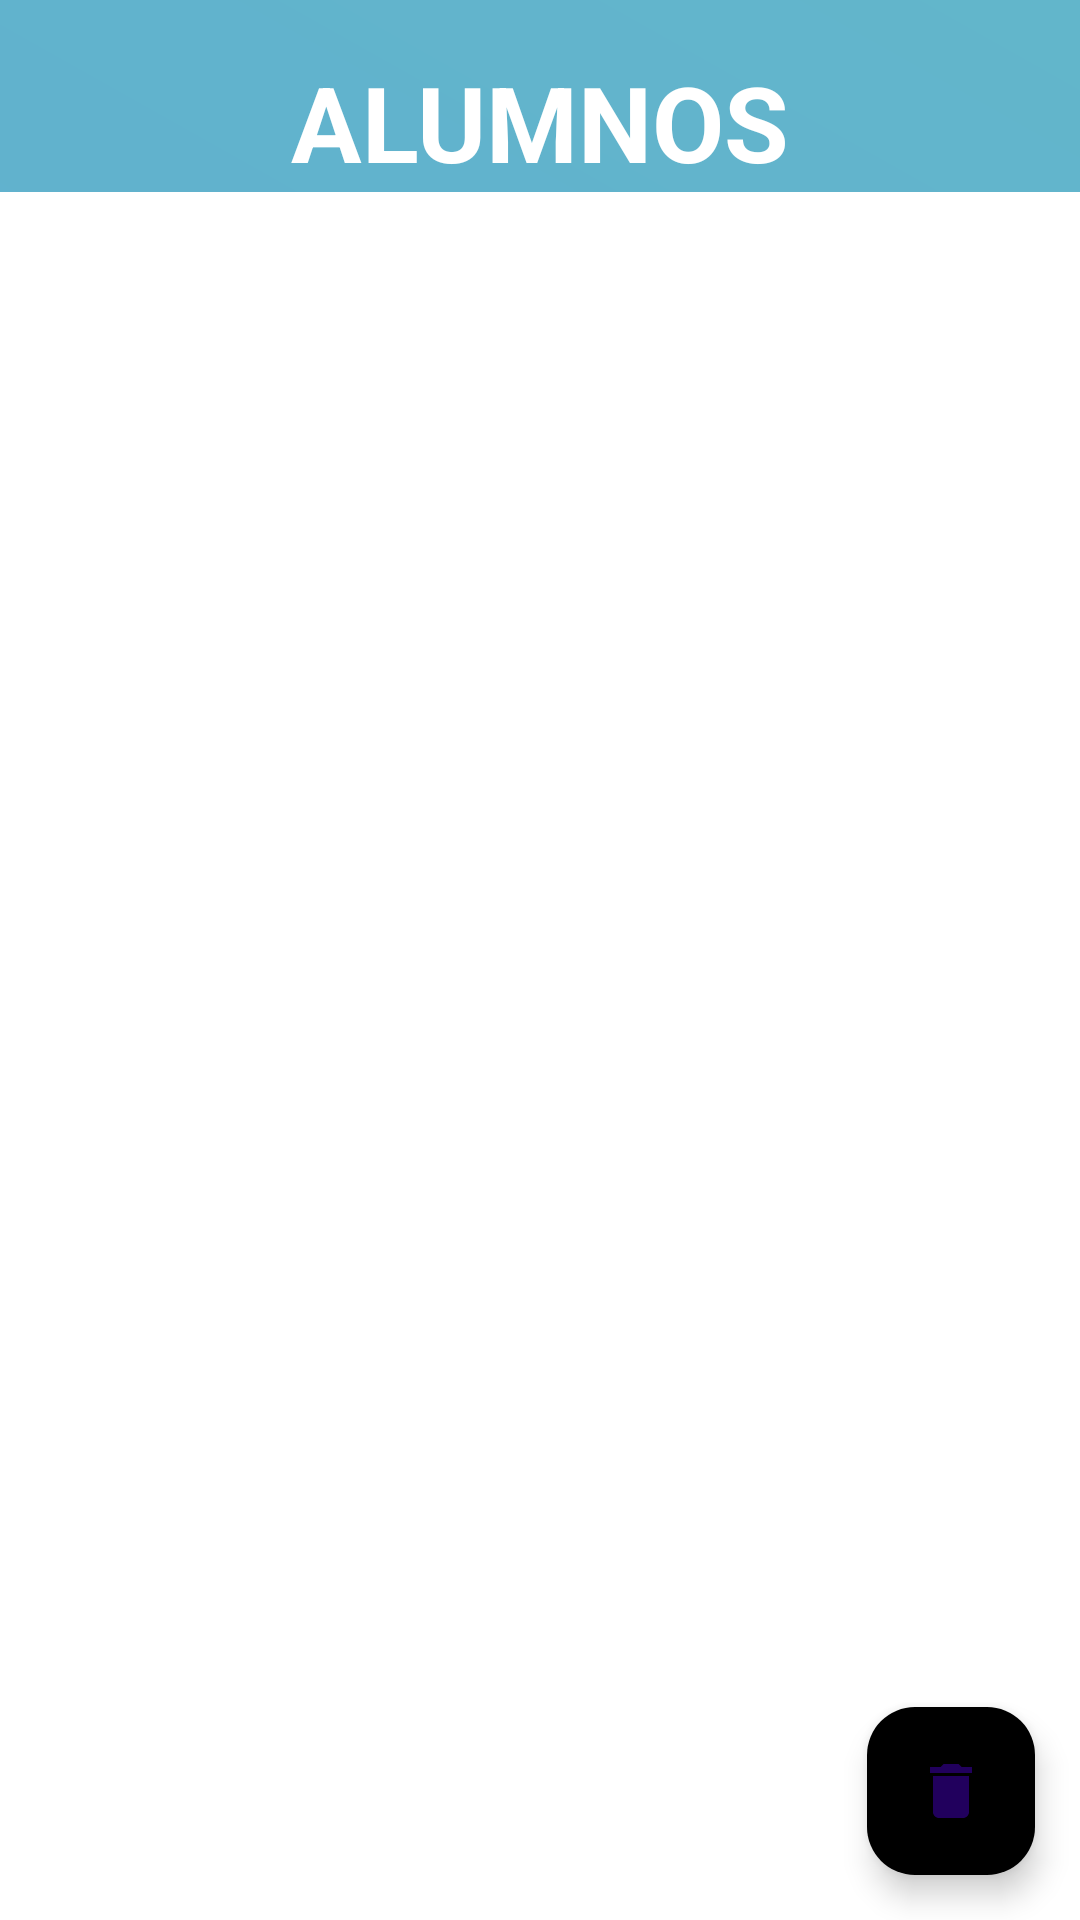

Screen size 1080px×1920px. Icon name, then its center in pixels as (x,y):
basura: (951,1791)
